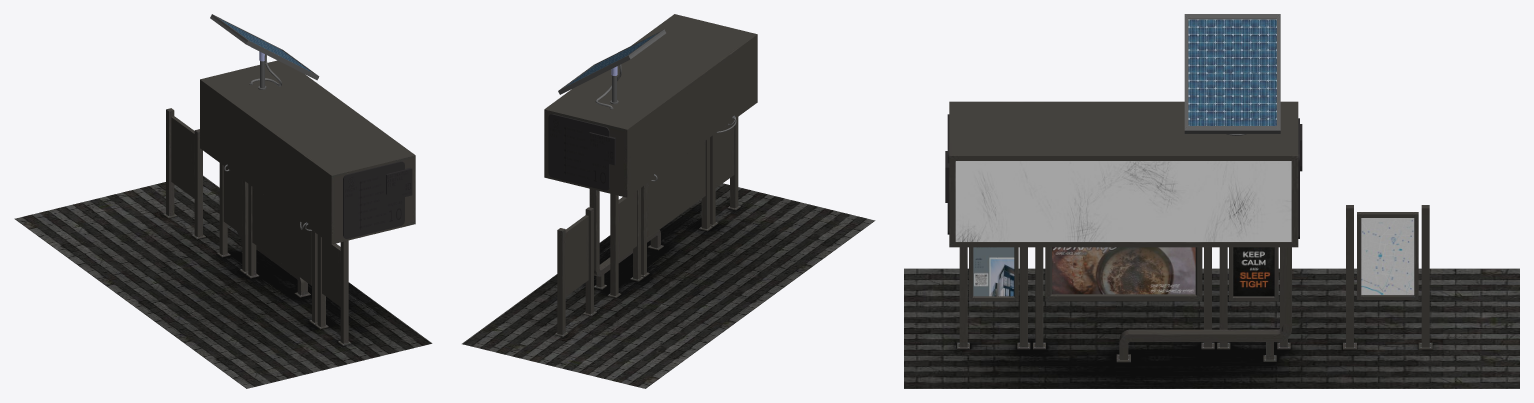
Rendered from s_busstop.glb.
3 views of the same model, side by side, from view 1: azimuth 30°, elevation 25°; view 2: azimuth 150°, elevation 25°; view 3: azimuth 270°, elevation 25° (orthographic). The views are drawn at different scales.
Size of the model in its own units: 5.58 by 7.02 by 12.08.
Materials: 6 (6 with a texture image).
